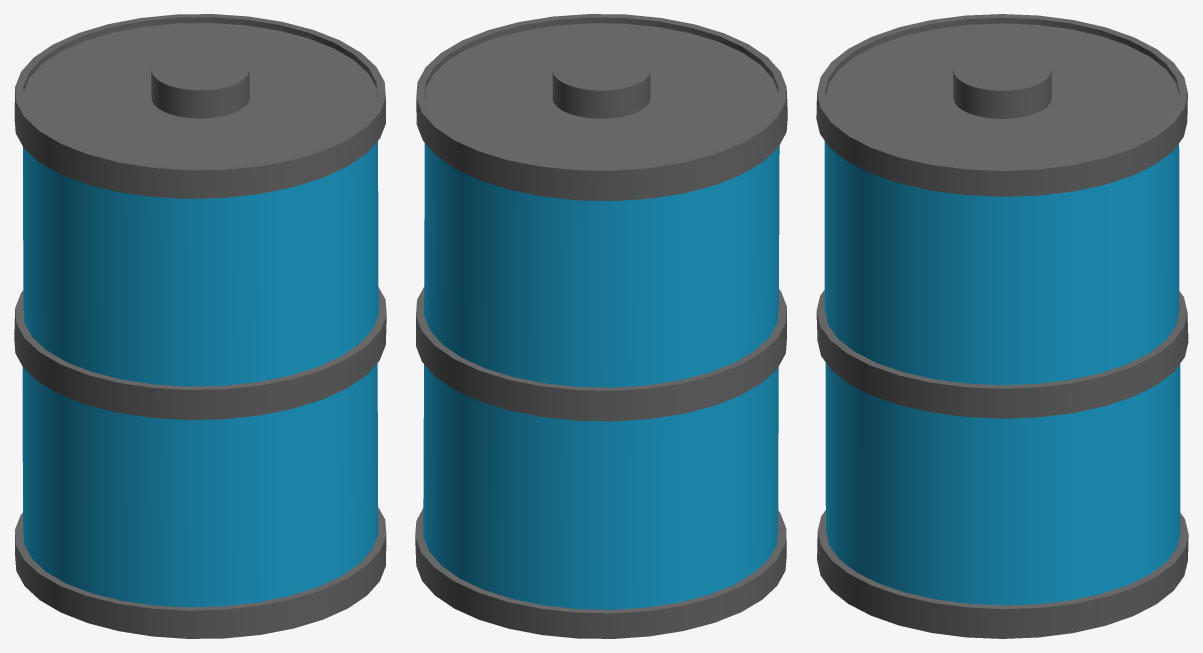
File: barrel.fbx
The picture shows the model from 3 angles, left to right: view 1: azimuth 30°, elevation 25°; view 2: azimuth 150°, elevation 25°; view 3: azimuth 270°, elevation 25°; orthographic projection.
Visible parts, largest first — view 1: Cylinder.061; view 2: Cylinder.061; view 3: Cylinder.061.
Boxes of the visible parts, <box> form: Cylinder.061: <box>14,14,386,638</box>; Cylinder.061: <box>415,14,787,638</box>; Cylinder.061: <box>816,14,1188,638</box>.
Bounding box in the file's own units: 87.09 × 126 × 86.9.
